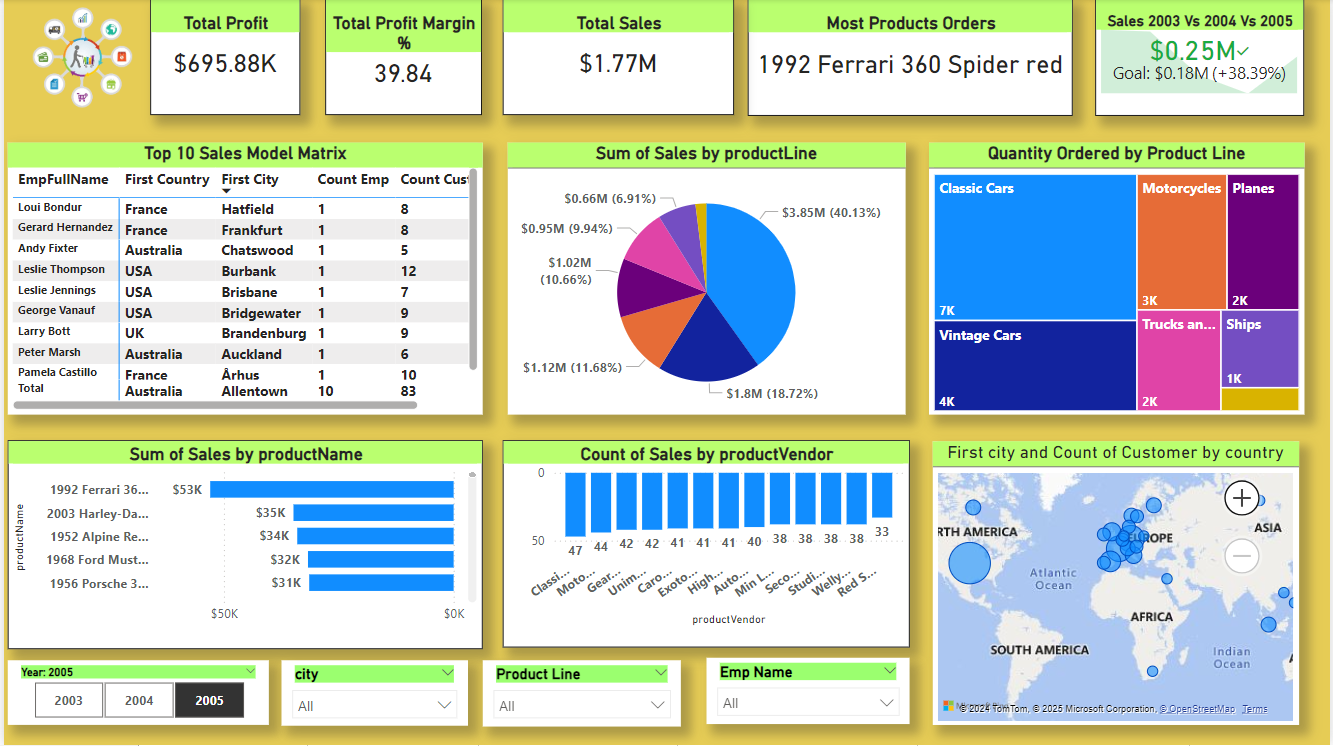

What the dashboard file says about the page in this screenshot:
{"tool":"powerbi","page":{"name":"Publish Reports","canvas":[1280,720],"ordinal":18},"visuals":[{"type":"pivotTable","title":"Top 10 Sales Model Matrix","fields":{"Rows":["employees.EmpFullName"],"Values":["employees.country","customers.city","employees.EmpFullName","customers.customerNumber"]},"box":[3.8,138.8,458.8,262.5],"z":0},{"type":"card","title":"Total Profit","fields":{"Values":["order details.total_proift"]},"box":[141.2,0,144.8,112.2],"z":1000},{"type":"card","title":"Most Products Orders","fields":{"Values":["order details.mostproductorder_using_chatgpt"]},"box":[717.5,0,313.8,112.5],"z":2000},{"type":"barChart","fields":{"Category":["products.productName"],"Y":["order details.Sales"]},"box":[3.8,426.2,458.8,201.2],"z":3000},{"type":"pieChart","fields":{"Category":["products.productLine"],"Y":["order details.Sales"]},"box":[486.2,138.8,383.8,262.5],"z":4000},{"type":"columnChart","fields":{"Category":["products.productVendor"],"Y":["order details.Sales"]},"box":[481.2,426.2,392.5,200],"z":5000},{"type":"kpi","title":"Sales 2003 Vs 2004 Vs 2005","fields":{"Indicator":["orders.sale_year_2004"],"Goal":["orders.sale_year_2003"],"TrendLine":["orders.Month Name"]},"box":[1053.8,0,201.2,112.5],"z":6000},{"type":"map","fields":{"Category":["customers.country"],"Size":["customers.customerNumber"],"X":["customers.city"]},"box":[896.3,426.8,353.4,273.9],"z":7000},{"type":"treemap","title":"Quantity Ordered by Product Line","fields":{"Group":["productlines.productLine"],"Values":["order details.quantityOrdered"]},"box":[892.5,138.8,362.5,262.5],"z":8000},{"type":"slicer","title":"Year","fields":{"Values":["orders.Year"]},"box":[3.7,638.3,251.9,62.4],"z":9000},{"type":"card","title":"Total Profit Margin %","fields":{"Values":["order details.profit_margine%"]},"box":[310.1,0,150.8,112.2],"z":10000},{"type":"card","title":"Total Sales","fields":{"Values":["order details.Sales"]},"box":[481.4,0,223.2,112.2],"z":11000},{"type":"slicer","fields":{"Values":["offices.city"]},"box":[267.8,638.3,179.8,63.6],"z":12000},{"type":"slicer","fields":{"Values":["employees.EmpFullName"]},"box":[677.5,636.2,196.2,63.8],"z":13000},{"type":"slicer","fields":{"Values":["productlines.productLine"]},"box":[462.5,638.8,191.2,63.8],"z":14000},{"type":"image","box":[22.9,0,106.2,112.2],"z":15000}]}

Visuals, with their boxes in screenshot pixels (x1, y1, x2, y2), scaled from the page's 1280x720 canvas onto the 1333x746 screenshot:
"Top 10 Sales Model Matrix" pivotTable: 4 144 482 416
"Total Profit" card: 147 0 298 116
"Most Products Orders" card: 747 0 1074 117
barChart - products.productName x order details.Sales: 4 442 482 650
pieChart - products.productLine x order details.Sales: 506 144 906 416
columnChart - products.productVendor x order details.Sales: 501 442 910 649
"Sales 2003 Vs 2004 Vs 2005" kpi: 1097 0 1307 117
map - customers.country x customers.customerNumber: 933 442 1301 726
"Quantity Ordered by Product Line" treemap: 929 144 1307 416
"Year" slicer: 4 661 266 726
"Total Profit Margin %" card: 323 0 480 116
"Total Sales" card: 501 0 734 116
slicer - offices.city: 279 661 466 727
slicer - employees.EmpFullName: 706 659 910 725
slicer - productlines.productLine: 482 662 681 728
image: 24 0 134 116
